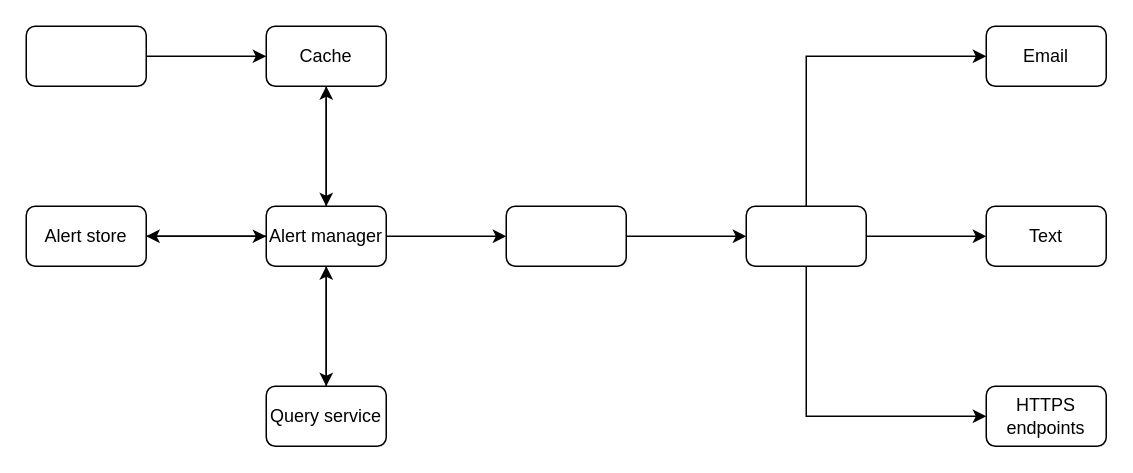
This 1133x473 diagram has some shape labels left out. The centre of each missing label's shape, as x and y in pixels:
"Alert consumer" goes at [805,235].
"Kafka" goes at [565,235].
"Rule config file" goes at [85,55].
